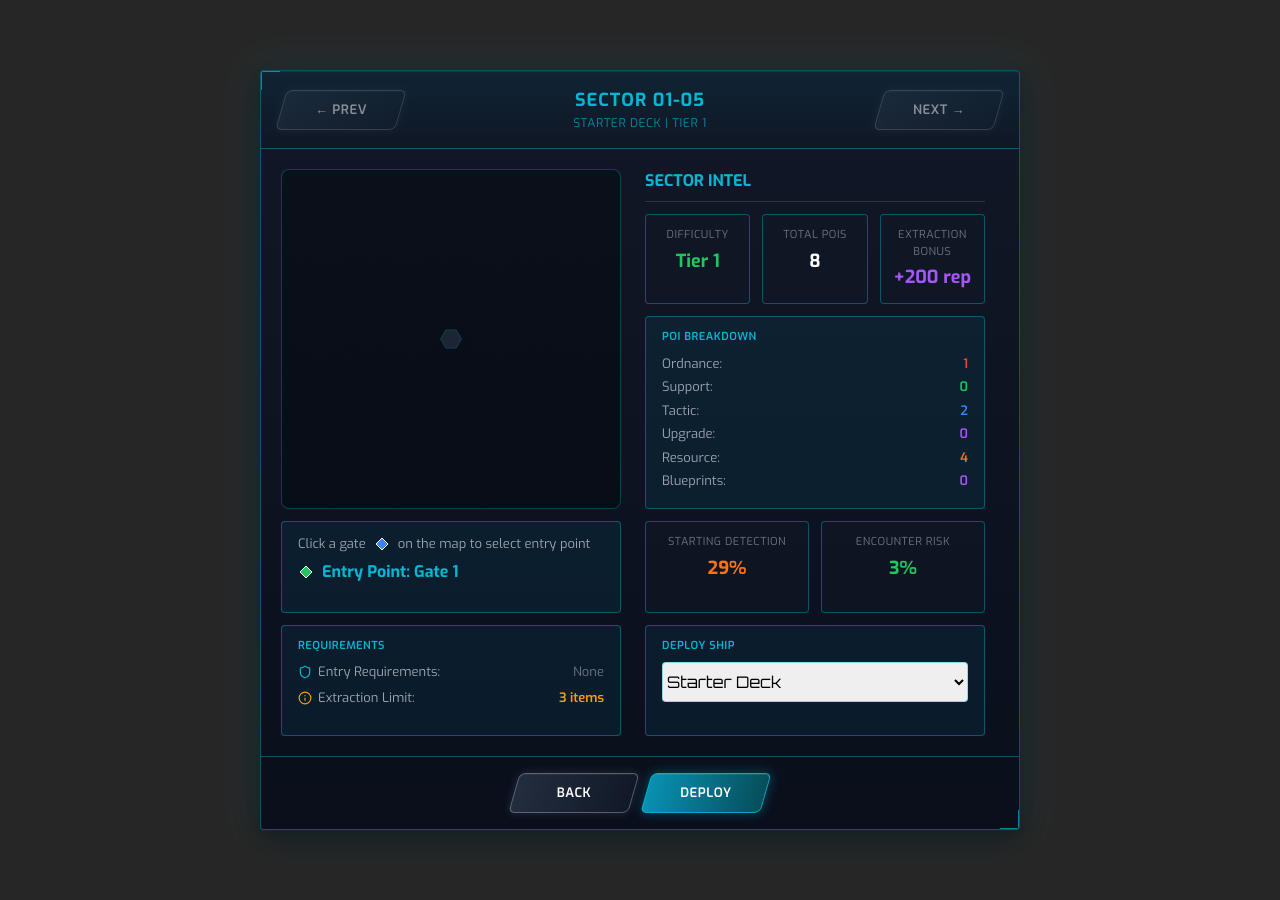
Test case: Starter Deck Warning Integration › should show warning when only starter deck available
Note: Click Deploy button
Click the button "Deploy".
click(706, 793)  # box [646, 773, 766, 813]
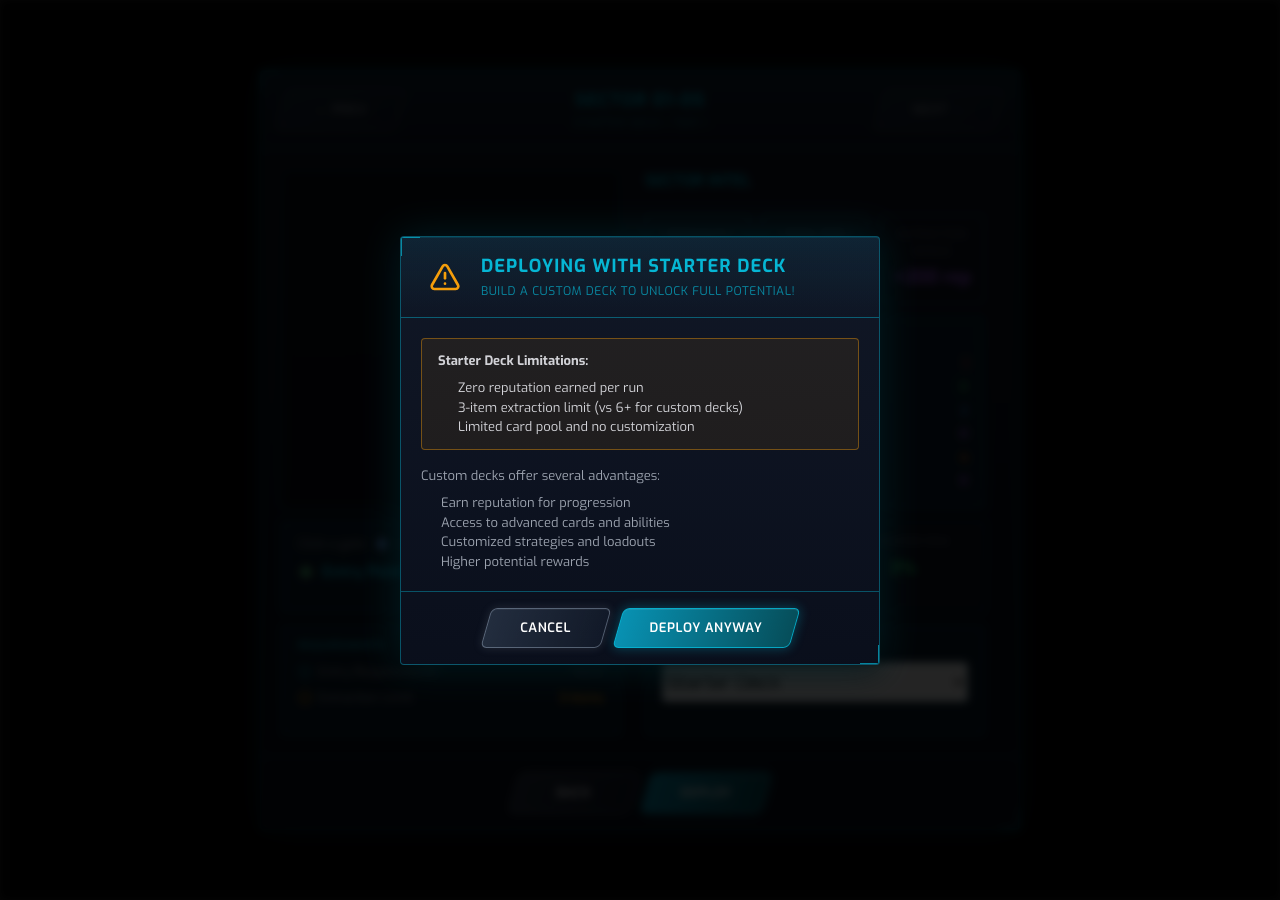
Expected: the heading "Deploying with Starter Deck" is shown, [481, 254, 786, 278]
Expected: the text "Build a custom deck to unlock full potential!" is shown, [481, 283, 795, 299]
